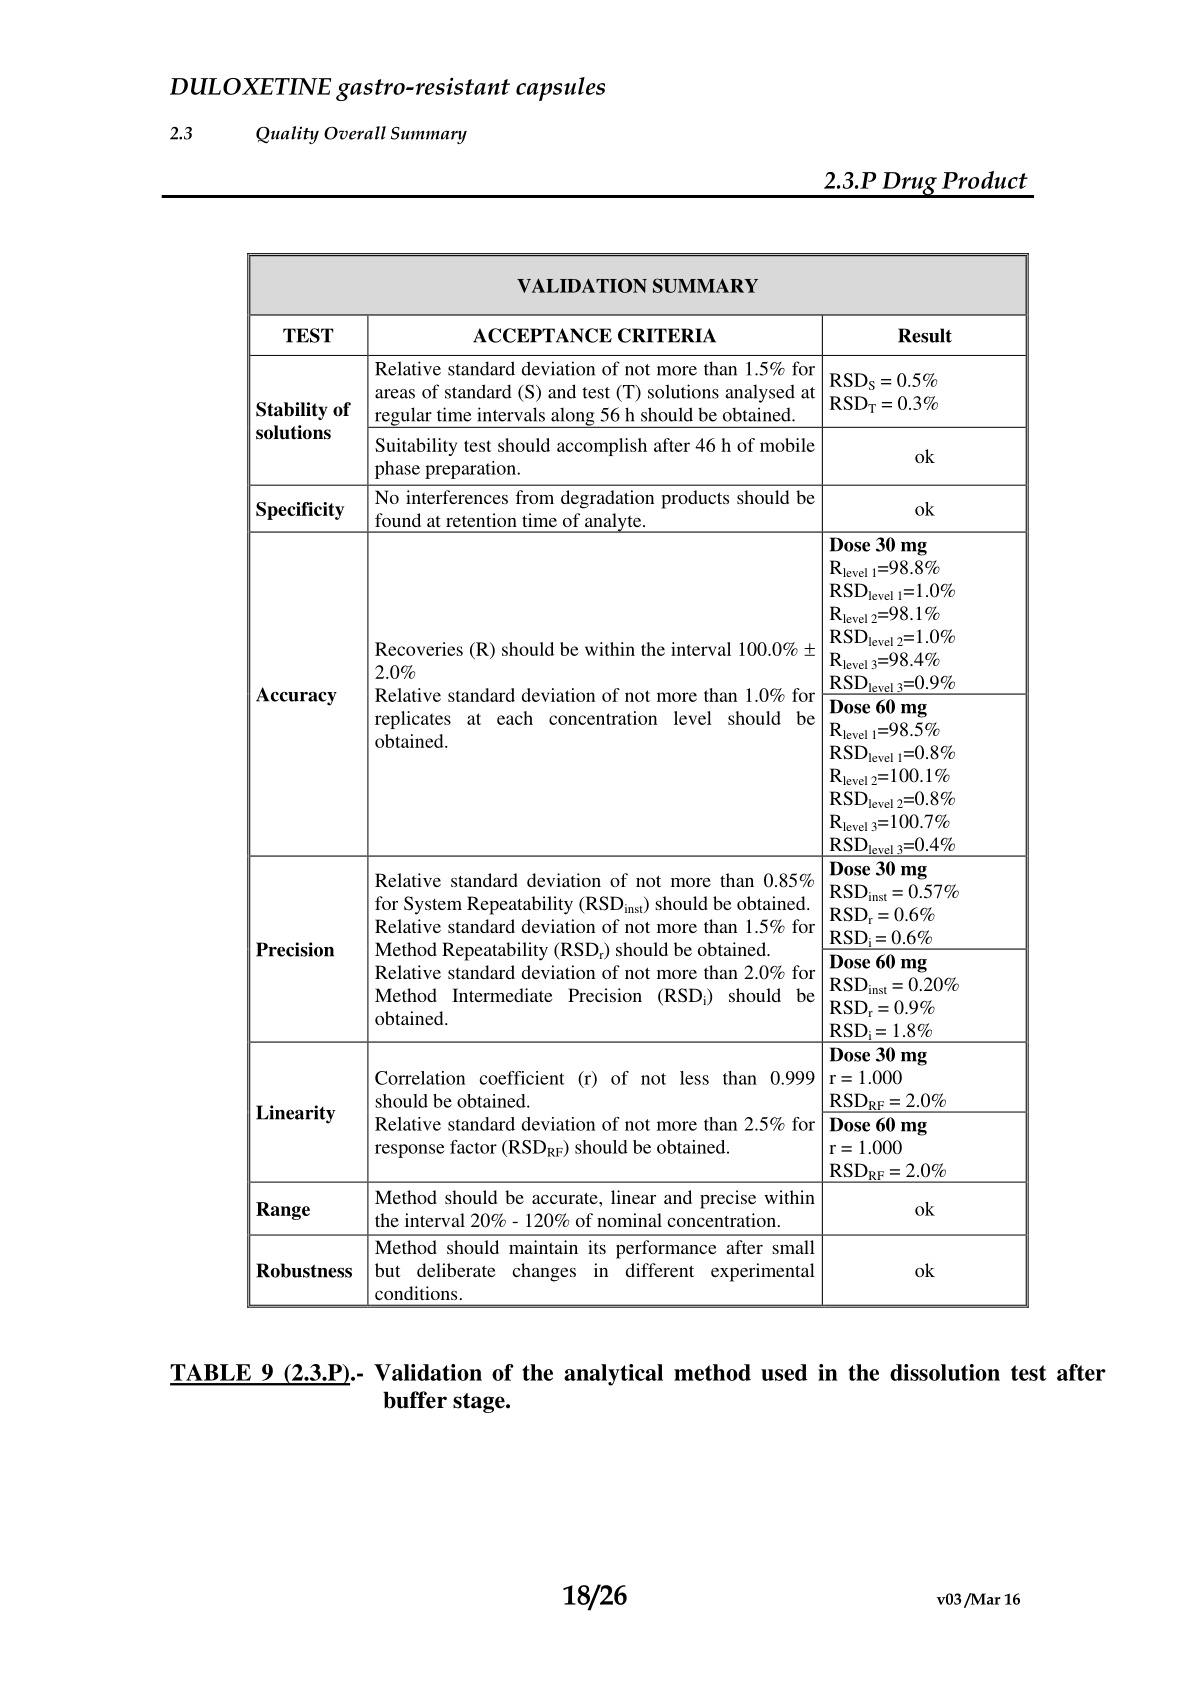merged_cells: (247, 253, 1030, 1308)
